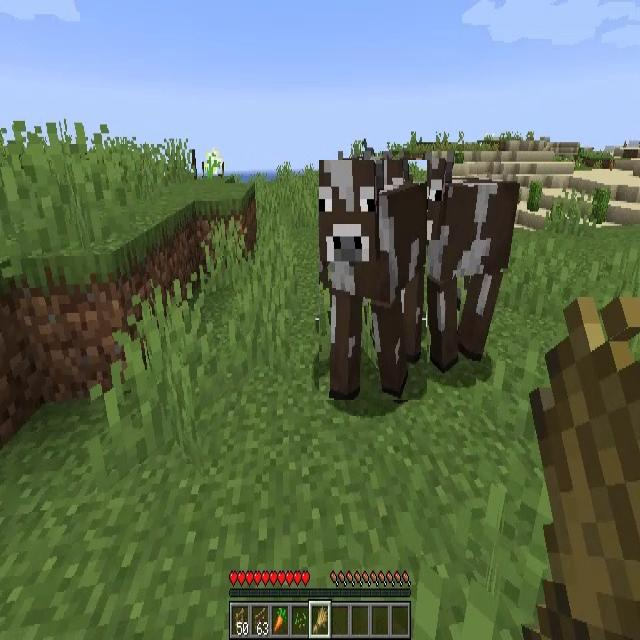cow: (319, 160, 427, 400), (428, 162, 520, 366)
flower: (204, 148, 224, 182)
